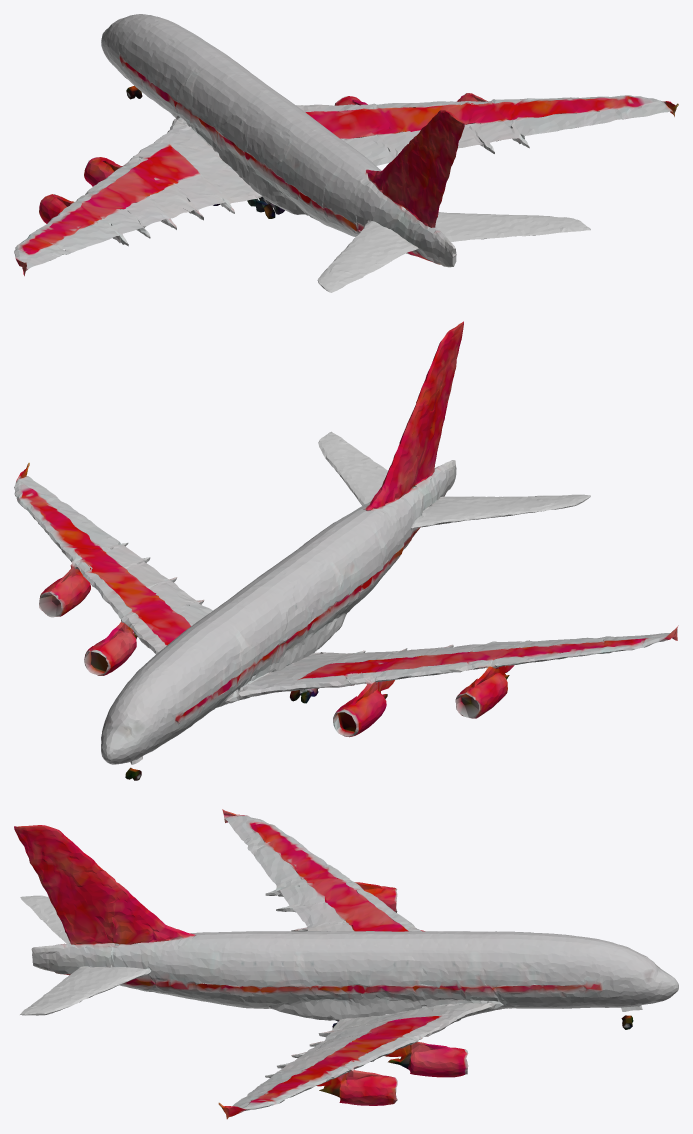
The picture shows the model from 3 angles, top to bottom: view 1: azimuth 30°, elevation 25°; view 2: azimuth 150°, elevation 25°; view 3: azimuth 270°, elevation 25°; orthographic projection. The views are drawn at different scales.
Visible parts, largest first — view 1: defaultobject; view 2: defaultobject; view 3: defaultobject.
Part boxes in pixels (box(x1,y1,x2,y2)): defaultobject: box(14, 14, 678, 292); defaultobject: box(14, 321, 678, 780); defaultobject: box(14, 809, 678, 1119).
Bounding box in the file's own units: 0.9496 × 0.3048 × 0.9026.
